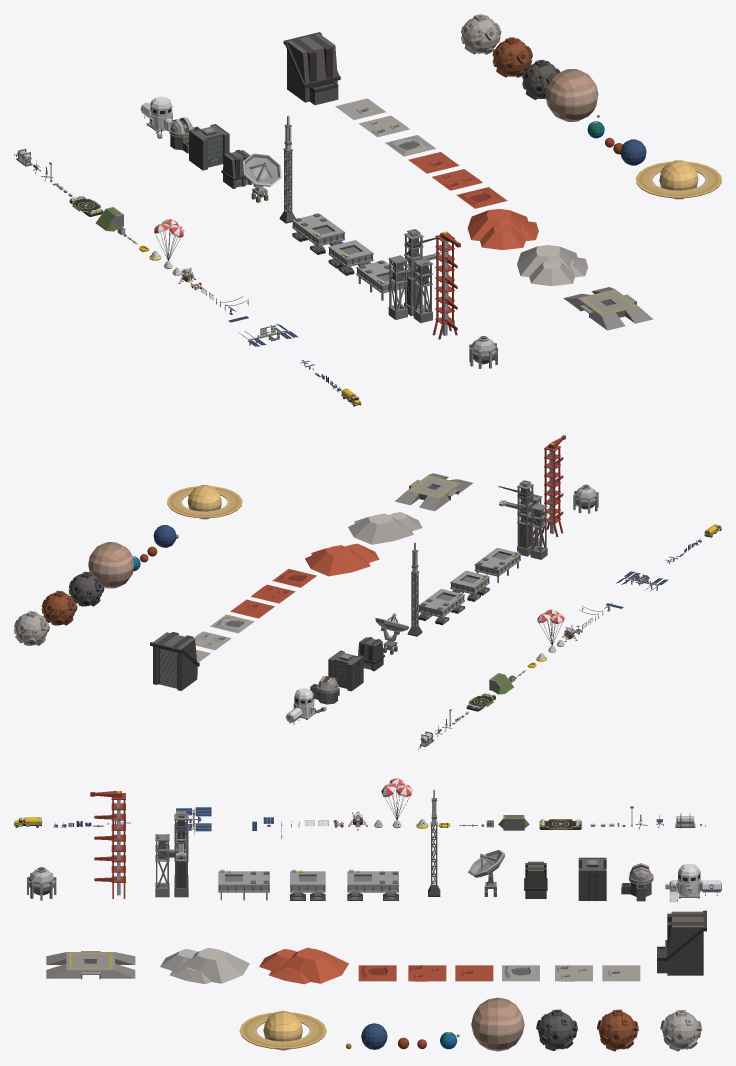
3 renders of one model, top to bottom at view 1: azimuth 30°, elevation 25°; view 2: azimuth 150°, elevation 25°; view 3: azimuth 270°, elevation 25°, orthographic. The views are drawn at different scales.
Parts seen in each view (by area): view 1: SM_Bld_Warehouse_01, SM_Bld_ShuttleLaunchTower_01, SM_Env_Scale_Saturn_01, SM_Env_Hills_02, SM_Env_Hills_01, SM_Env_Scale_Jupiter_01, SM_Env_LaunchGround_01, SM_Bld_ShuttleLaunchTower_02, SM_Bld_Office_01, SM_Bld_ShuttleLaunchPad_01, SM_Env_Meteor_02, SM_Env_Meteor_03 (+15 smaller); view 2: SM_Bld_Warehouse_01, SM_Bld_ShuttleLaunchTower_01, SM_Env_Scale_Saturn_01, SM_Env_Hills_01, SM_Env_Hills_02, SM_Env_Scale_Jupiter_01, SM_Env_LaunchGround_01, SM_Bld_ShuttleLaunchTower_02, SM_Bld_Office_01, SM_Bld_ShuttleLaunchPad_01, SM_Env_Meteor_02, SM_Env_Meteor_03 (+9 smaller); view 3: SM_Bld_Warehouse_01, SM_Env_Scale_Saturn_01, SM_Env_Hills_01, SM_Env_Hills_02, SM_Env_Scale_Jupiter_01, SM_Env_LaunchGround_01, SM_Bld_ShuttleLaunchTower_01, SM_Bld_ShuttleLaunchTower_02, SM_Bld_ShuttleLaunchPad_01, SM_Env_Meteor_03, SM_Env_Meteor_01, SM_Env_Meteor_02 (+19 smaller).
Part boxes in pixels (x1,y1,x2,y2): SM_Bld_Warehouse_01: (283,32,340,105); SM_Bld_ShuttleLaunchTower_01: (388,229,441,323); SM_Env_Scale_Saturn_01: (635,160,721,199); SM_Env_Hills_02: (517,245,587,286); SM_Env_Hills_01: (467,209,538,249); SM_Env_Scale_Jupiter_01: (545,69,598,121); SM_Env_LaunchGround_01: (563,287,652,330); SM_Bld_ShuttleLaunchTower_02: (432,231,460,339); SM_Bld_Office_01: (189,124,229,170); SM_Bld_ShuttleLaunchPad_01: (292,213,344,254); SM_Env_Meteor_02: (461,14,501,54); SM_Env_Meteor_03: (492,37,532,77); SM_Bld_Warehouse_01: (150,632,199,690); SM_Bld_ShuttleLaunchTower_01: (498,480,547,559); SM_Env_Scale_Saturn_01: (167,485,242,519); SM_Env_Hills_01: (305,543,379,576); SM_Env_Hills_02: (348,512,422,544); SM_Env_Scale_Jupiter_01: (88,542,134,588); SM_Env_LaunchGround_01: (395,473,472,511); SM_Bld_ShuttleLaunchTower_02: (542,435,565,536); SM_Bld_Office_01: (328,650,363,691); SM_Bld_ShuttleLaunchPad_01: (418,589,464,625); SM_Env_Meteor_02: (14,611,49,645); SM_Env_Meteor_03: (41,590,77,625); SM_Bld_Warehouse_01: (657,910,706,975); SM_Env_Scale_Saturn_01: (239,1010,326,1050); SM_Env_Hills_01: (259,947,348,984); SM_Env_Hills_02: (160,947,249,984); SM_Env_Scale_Jupiter_01: (471,997,524,1051); SM_Env_LaunchGround_01: (46,951,135,979); SM_Bld_ShuttleLaunchTower_01: (155,811,188,897); SM_Bld_ShuttleLaunchTower_02: (90,791,125,898); SM_Bld_ShuttleLaunchPad_01: (347,869,398,900); SM_Env_Meteor_03: (597,1009,638,1051); SM_Env_Meteor_01: (536,1009,577,1050); SM_Env_Meteor_02: (660,1010,702,1051).
Size of the model in its own units: 314 by 61.67 by 372.
